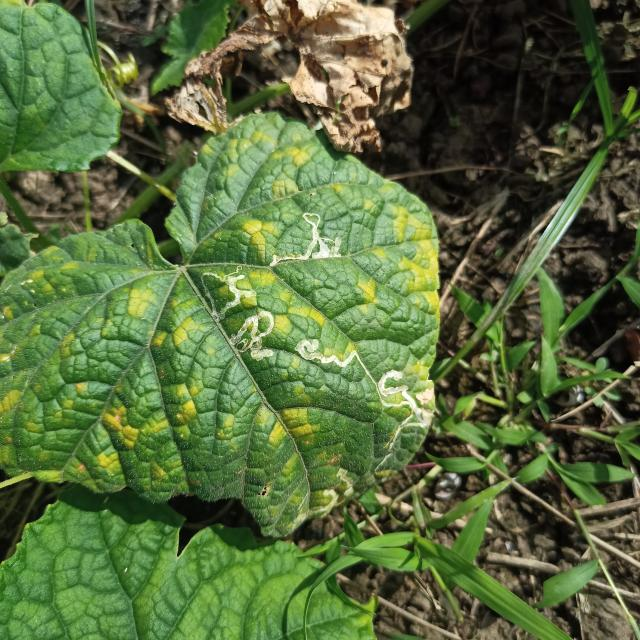disease_cucumber: (2, 134, 445, 516)
